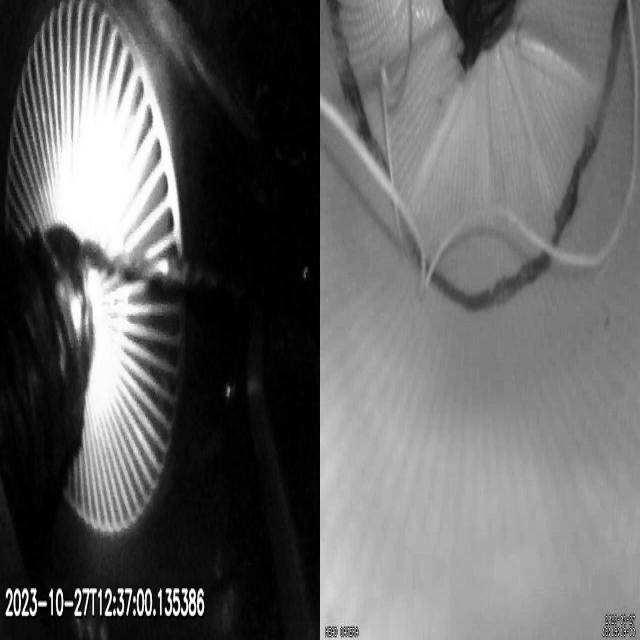red-circle: (322, 2, 626, 314)
